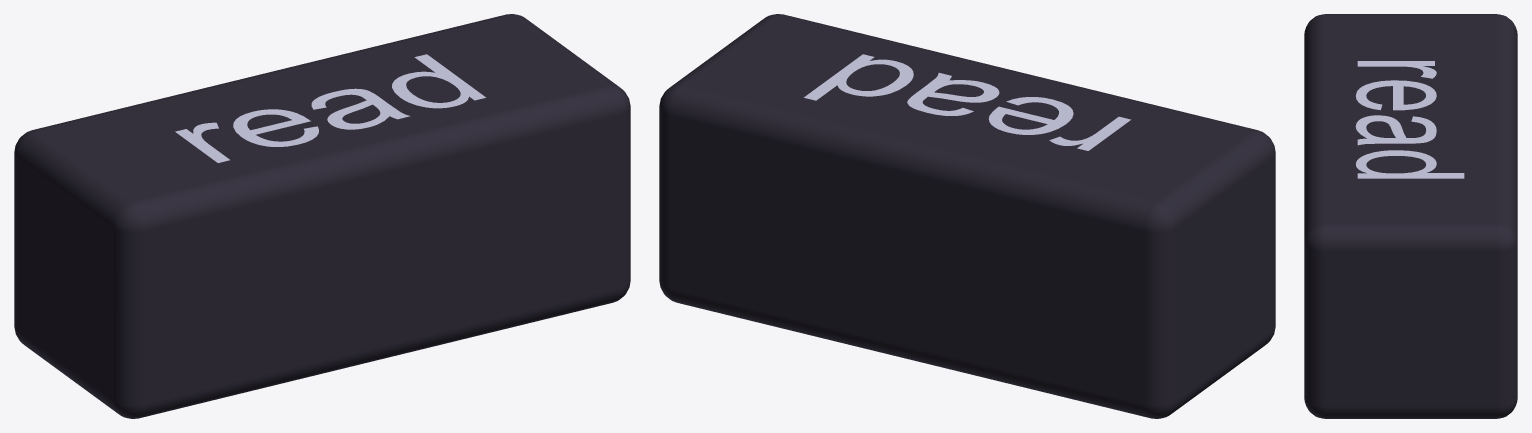
Rendered from read.glb.
The picture shows the model from 3 angles, left to right: view 1: azimuth 30°, elevation 25°; view 2: azimuth 150°, elevation 25°; view 3: azimuth 270°, elevation 25°; orthographic projection. The views are drawn at different scales.
Parts seen in each view (by area): view 1: Cut, Extrude; view 2: Cut, Extrude; view 3: Cut, Extrude.
Boxes of the visible parts, <box> form: Cut: <box>14,14,630,418</box>; Extrude: <box>175,54,485,162</box>; Cut: <box>659,14,1275,418</box>; Extrude: <box>804,54,1130,150</box>; Cut: <box>1304,14,1517,418</box>; Extrude: <box>1355,61,1464,178</box>.
Size of the model in its own units: 5 by 2 by 2.
